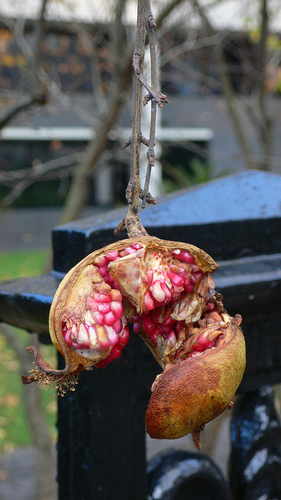pomogranate: (21, 239, 245, 438)
